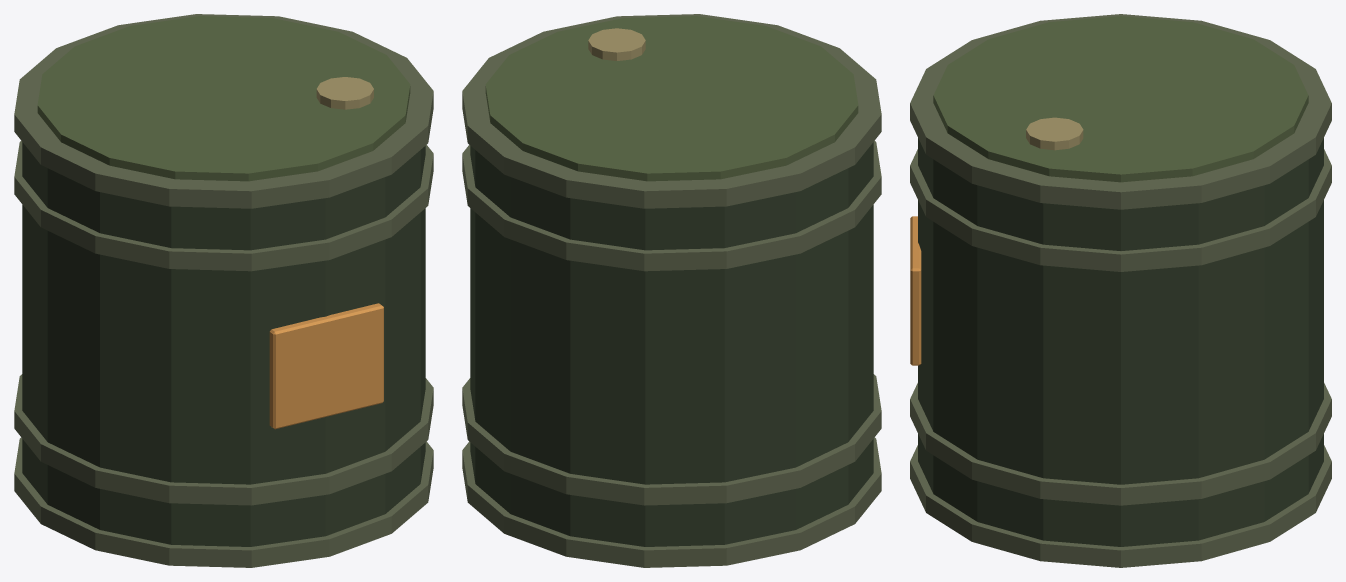
The model's file is barrelInstances.obj.
3 views of the same model, side by side, from view 1: azimuth 30°, elevation 25°; view 2: azimuth 150°, elevation 25°; view 3: azimuth 270°, elevation 25° (orthographic).
Visible parts, largest first — view 1: barrelInstances; view 2: barrelInstances; view 3: barrelInstances.
Boxes of the visible parts, bbox=[...] form: barrelInstances: bbox=[14, 14, 433, 567]; barrelInstances: bbox=[462, 14, 881, 567]; barrelInstances: bbox=[910, 14, 1331, 567].
Size of the model in its own units: 0.78 by 0.8 by 0.78.
1 material, 1 textured.
